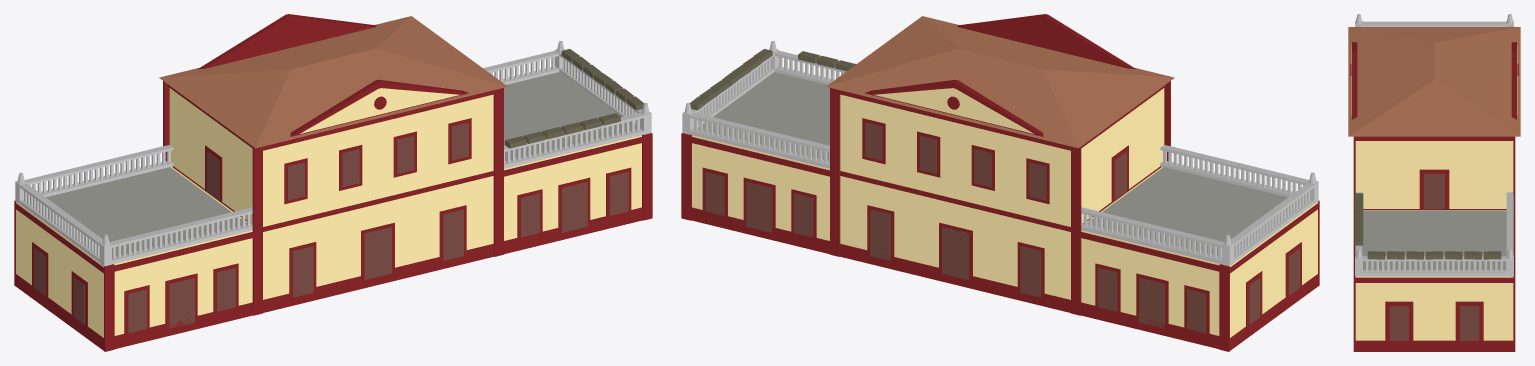
The model's file is SM_EdificioViajerosSagunto_v1_Segura_LOD0.fbx.
The picture shows the model from 3 angles, left to right: view 1: azimuth 30°, elevation 25°; view 2: azimuth 150°, elevation 25°; view 3: azimuth 270°, elevation 25°; orthographic projection. The views are drawn at different scales.
Parts seen in each view (by area): view 1: SM_edificio_viajeros_sagunto_v1_LOD0; view 2: SM_edificio_viajeros_sagunto_v1_LOD0; view 3: SM_edificio_viajeros_sagunto_v1_LOD0.
Boxes of the visible parts, x1=… form: SM_edificio_viajeros_sagunto_v1_LOD0: x1=14, y1=14, x2=652, y2=351; SM_edificio_viajeros_sagunto_v1_LOD0: x1=681, y1=14, x2=1319, y2=351; SM_edificio_viajeros_sagunto_v1_LOD0: x1=1348, y1=14, x2=1520, y2=351.
Bounding box in the file's own units: 32.13 × 11.4 × 9.8.
